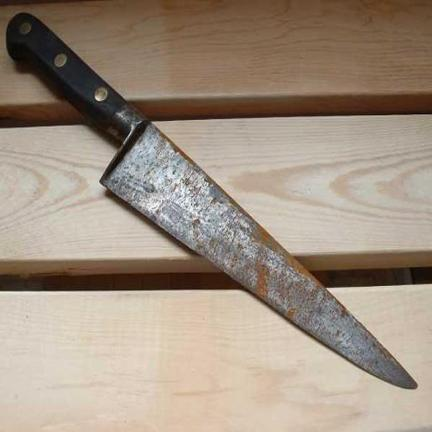besi_tidak_karat: (6, 13, 416, 388)
